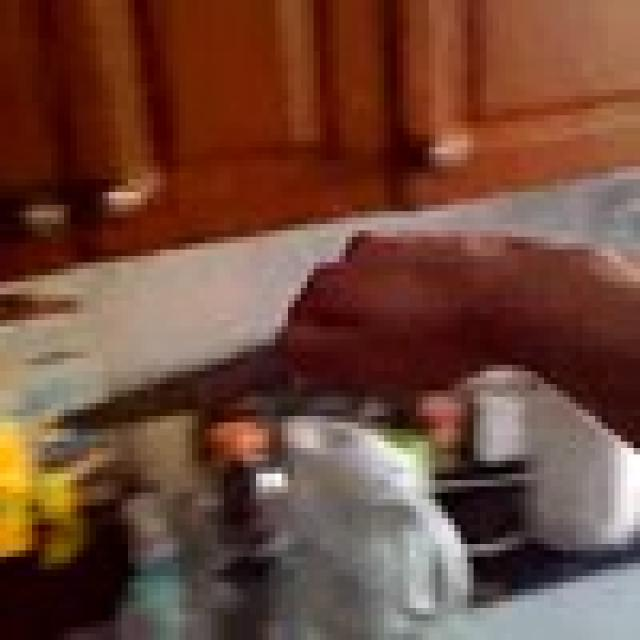Knife: (70, 326, 301, 448)
